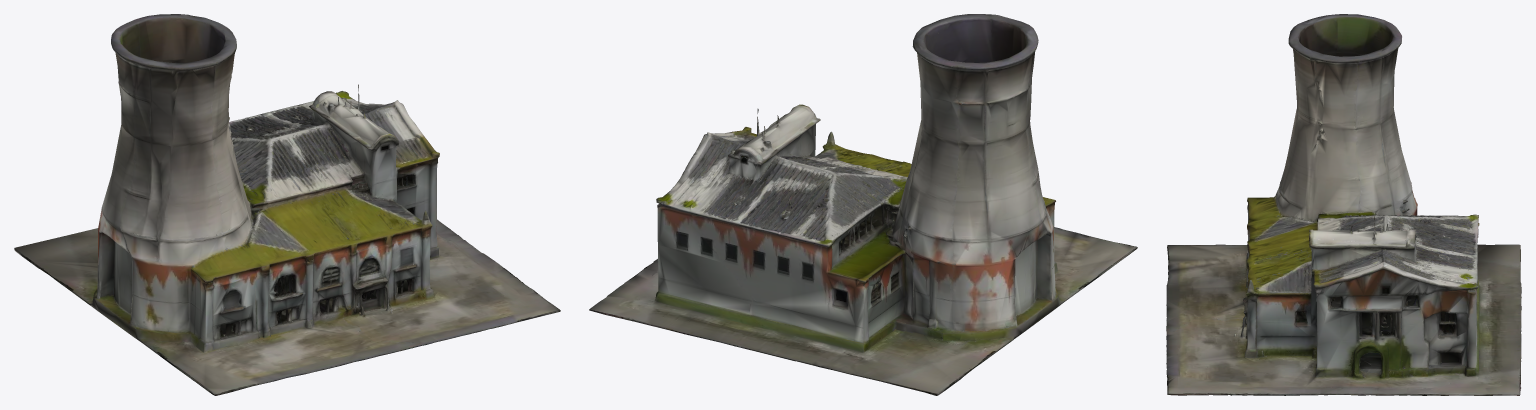
File: power_plant.glb
The picture shows the model from 3 angles, left to right: view 1: azimuth 30°, elevation 25°; view 2: azimuth 150°, elevation 25°; view 3: azimuth 270°, elevation 25°; orthographic projection. The views are drawn at different scales.
Bounding box in the file's own units: 2 × 1.47 × 2.
1 material, 1 textured.
